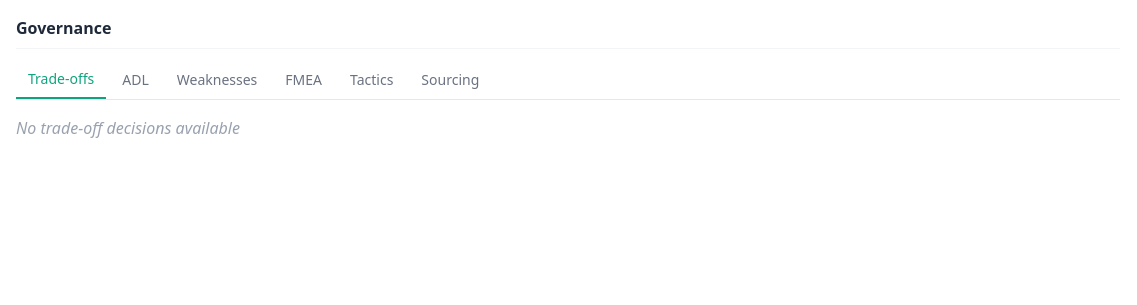
it: GovernanceView › switchesToWeaknessesTab_withData
Click the button with test id "tab-weaknesses": point(217, 80) x1=165 y1=61 x2=269 y2=99
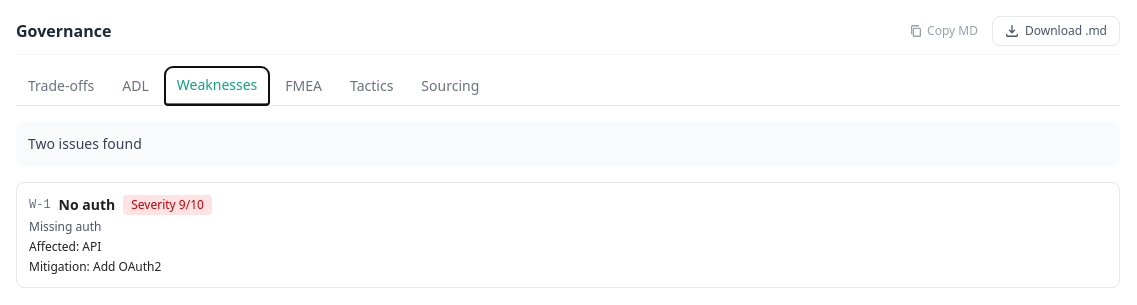
expect the text "Two issues found" is shown: met, box x1=16 y1=122 x2=1120 y2=166
expect the heading "No auth" is shown: met, box x1=59 y1=195 x2=115 y2=215
expect the text "Severity 9/10" is shown: met, box x1=123 y1=195 x2=212 y2=215
